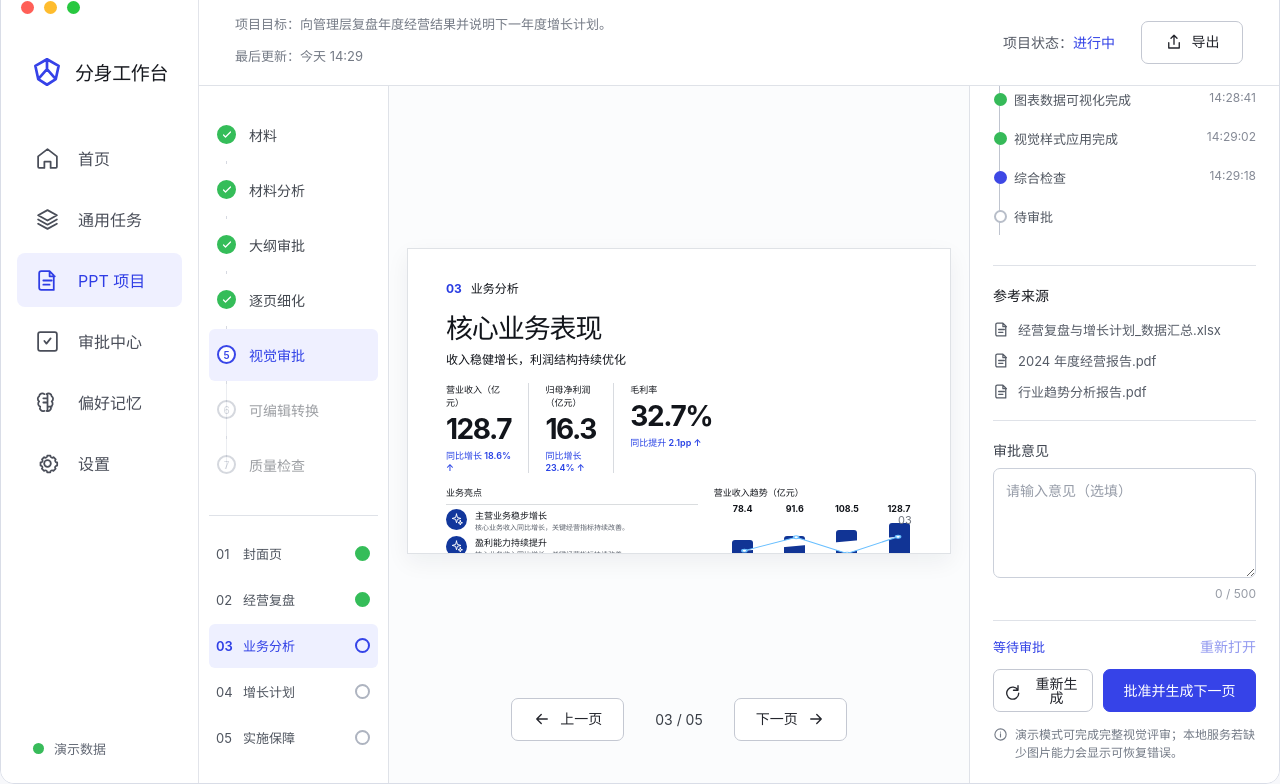
Test: desktop workbench interactions › regenerates a slide and advances after its approval
(page scrolled)
Click the button "重新生成" at (1043, 691), box [993,669,1093,712]
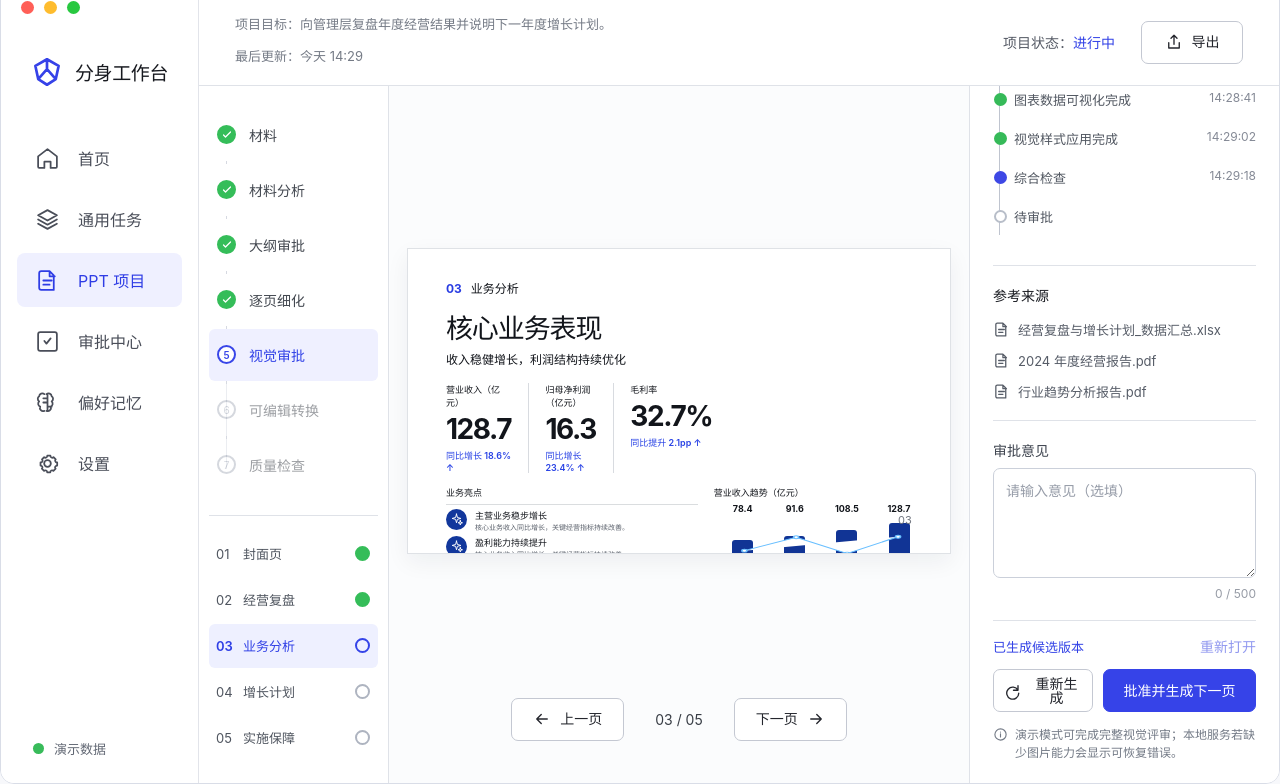
Check: the text "已生成候选版本" is shown, box [993,637,1084,656]
Click the button "批准并生成下一页" at (1179, 691), box [1103,669,1256,712]
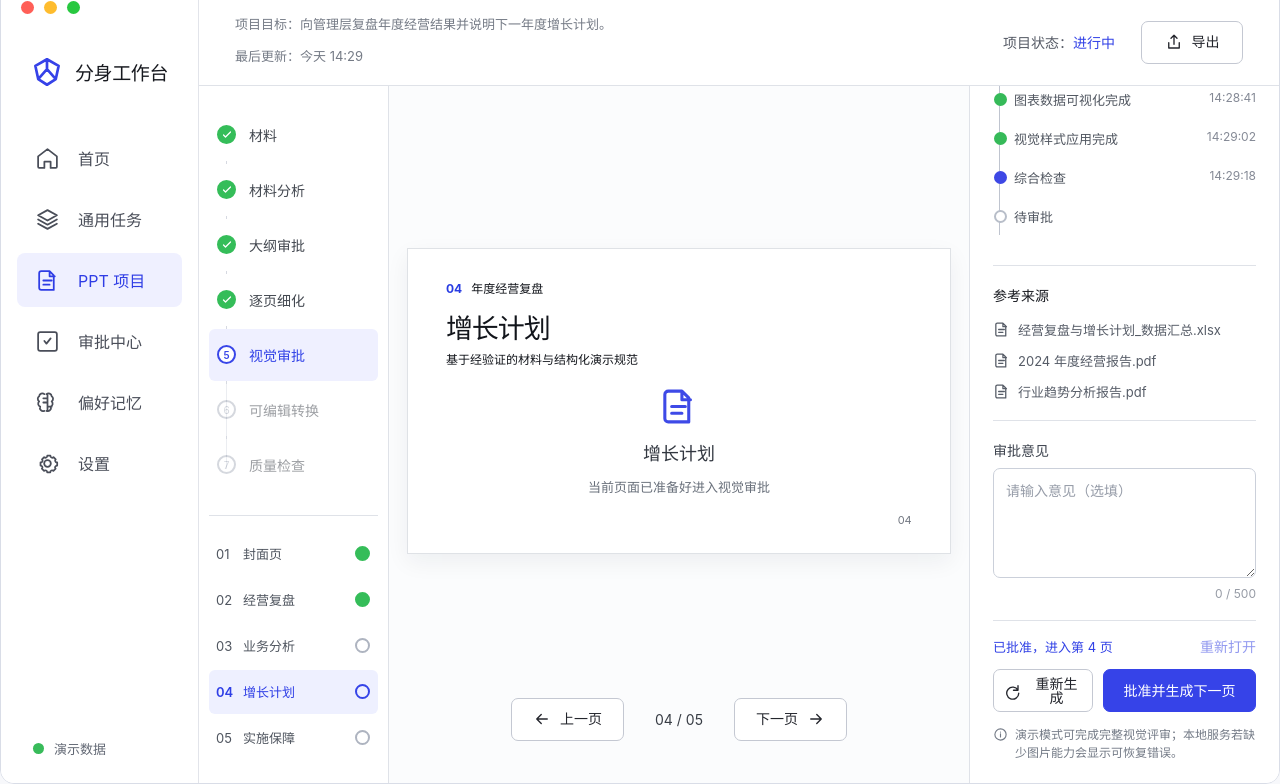
Check: the text "已批准，进入第 4 页" is shown, box [993,637,1113,656]
